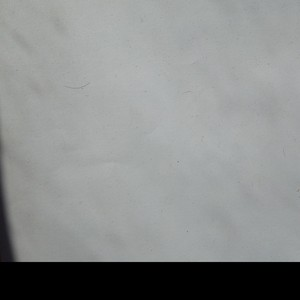base: (1, 1, 298, 261)
